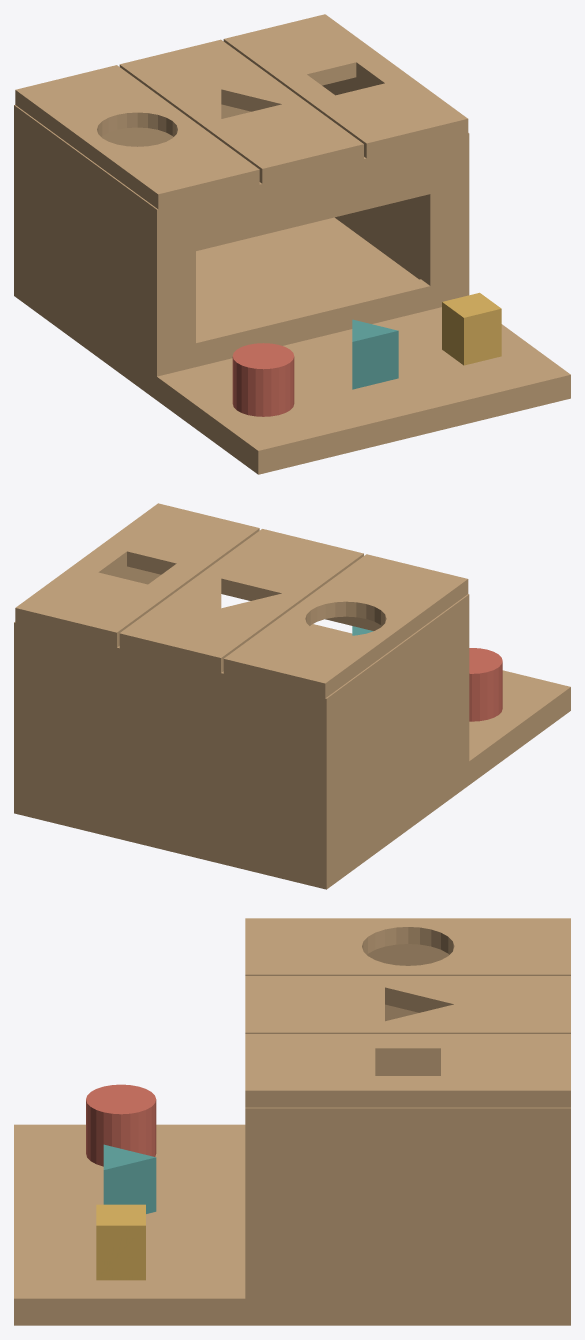
3 renders of one model, top to bottom at view 1: azimuth 30°, elevation 25°; view 2: azimuth 150°, elevation 25°; view 3: azimuth 270°, elevation 25°, orthographic. The views are drawn at different scales.
Visible parts, largest first — view 1: WholeChestWithOpenRetrievalMouthAndTray, FixedPiercedRoof_round, FixedPiercedRoof_triangle, FixedPiercedRoof_square, CompleteLooseForm_round, CompleteLooseForm_square, CompleteLooseForm_triangle; view 2: WholeChestWithOpenRetrievalMouthAndTray, FixedPiercedRoof_round, FixedPiercedRoof_triangle, FixedPiercedRoof_square, CompleteLooseForm_round; view 3: WholeChestWithOpenRetrievalMouthAndTray, FixedPiercedRoof_square, FixedPiercedRoof_triangle, FixedPiercedRoof_round, CompleteLooseForm_round, CompleteLooseForm_square, CompleteLooseForm_triangle.
Part boxes in pixels (left/top/right/bottom): WholeChestWithOpenRetrievalMouthAndTray: left=14, top=77, right=570, bottom=474; FixedPiercedRoof_round: left=15, top=65, right=259, bottom=209; FixedPiercedRoof_triangle: left=119, top=39, right=363, bottom=183; FixedPiercedRoof_square: left=223, top=14, right=468, bottom=158; CompleteLooseForm_round: left=232, top=343, right=294, bottom=416; CompleteLooseForm_square: left=442, top=292, right=501, bottom=365; CompleteLooseForm_triangle: left=352, top=319, right=398, bottom=389; WholeChestWithOpenRetrievalMouthAndTray: left=14, top=566, right=570, bottom=889; FixedPiercedRoof_round: left=223, top=554, right=468, bottom=698; FixedPiercedRoof_triangle: left=119, top=529, right=363, bottom=672; FixedPiercedRoof_square: left=15, top=503, right=259, bottom=647; CompleteLooseForm_round: left=469, top=648, right=502, bottom=721; WholeChestWithOpenRetrievalMouthAndTray: left=14, top=944, right=570, bottom=1325; FixedPiercedRoof_square: left=245, top=1034, right=570, bottom=1107; FixedPiercedRoof_triangle: left=245, top=976, right=570, bottom=1033; FixedPiercedRoof_round: left=245, top=918, right=570, bottom=975; CompleteLooseForm_round: left=86, top=1084, right=156, bottom=1166; CompleteLooseForm_square: left=96, top=1204, right=145, bottom=1280; CompleteLooseForm_triangle: left=103, top=1144, right=156, bottom=1213.
Bounding box in the file's own units: 0.48 × 0.302 × 0.65.
